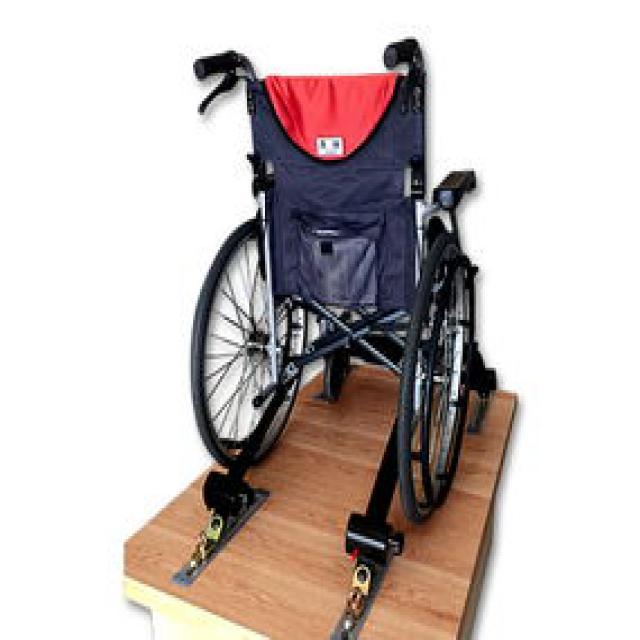wheelchair: (177, 28, 492, 525)
